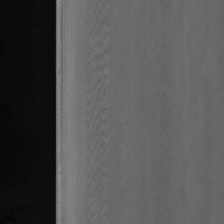silk_spot: (81, 3, 110, 222)
